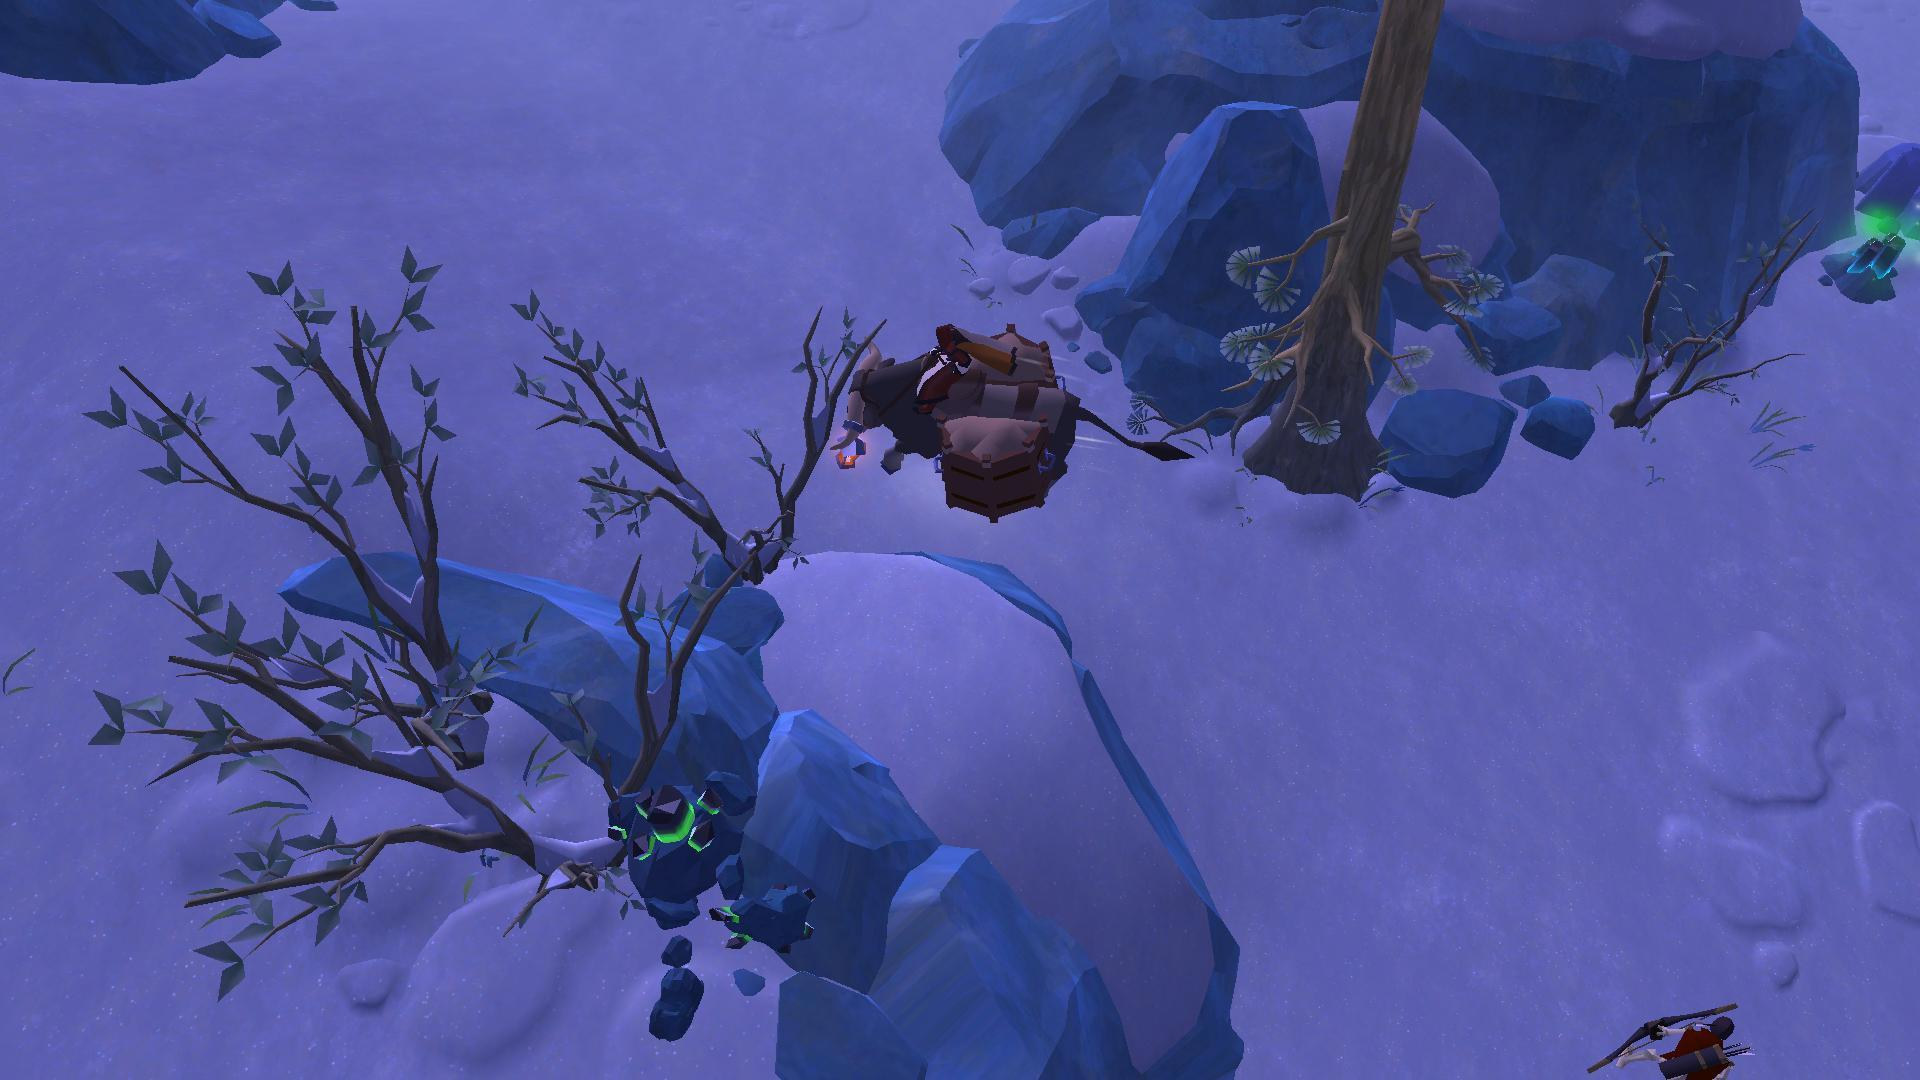enemy_factionUndead: (1596, 990, 1746, 1080)
ore_t4: (1836, 233, 1903, 294)
